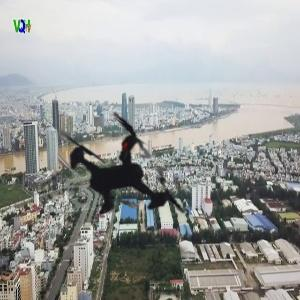drone: (19, 68, 229, 278)
